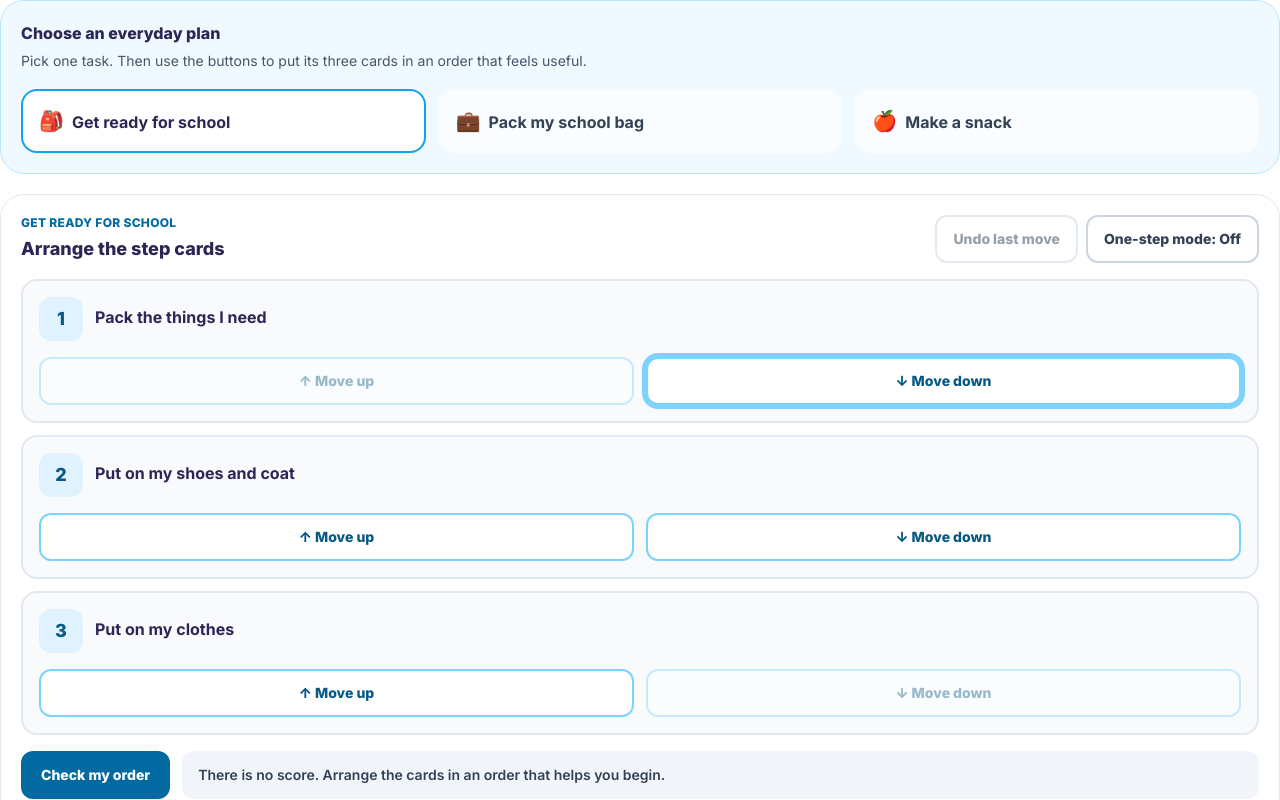
Test: DyspraxiaStepPlannerActivity › moves cards by keyboard with large labelled buttons and can undo the last move
Press Enter
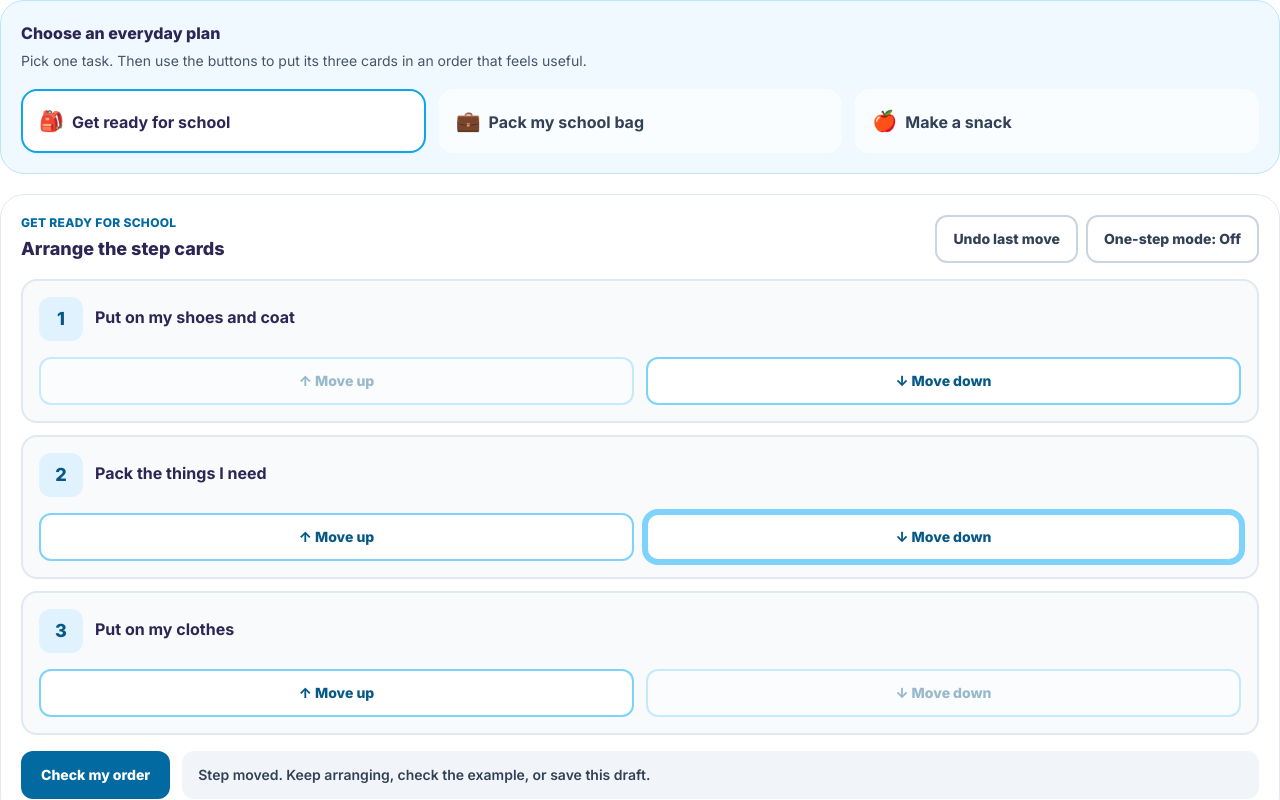
Click the button "Undo last move" at coordinates (1007, 239), box [935,215,1078,263]
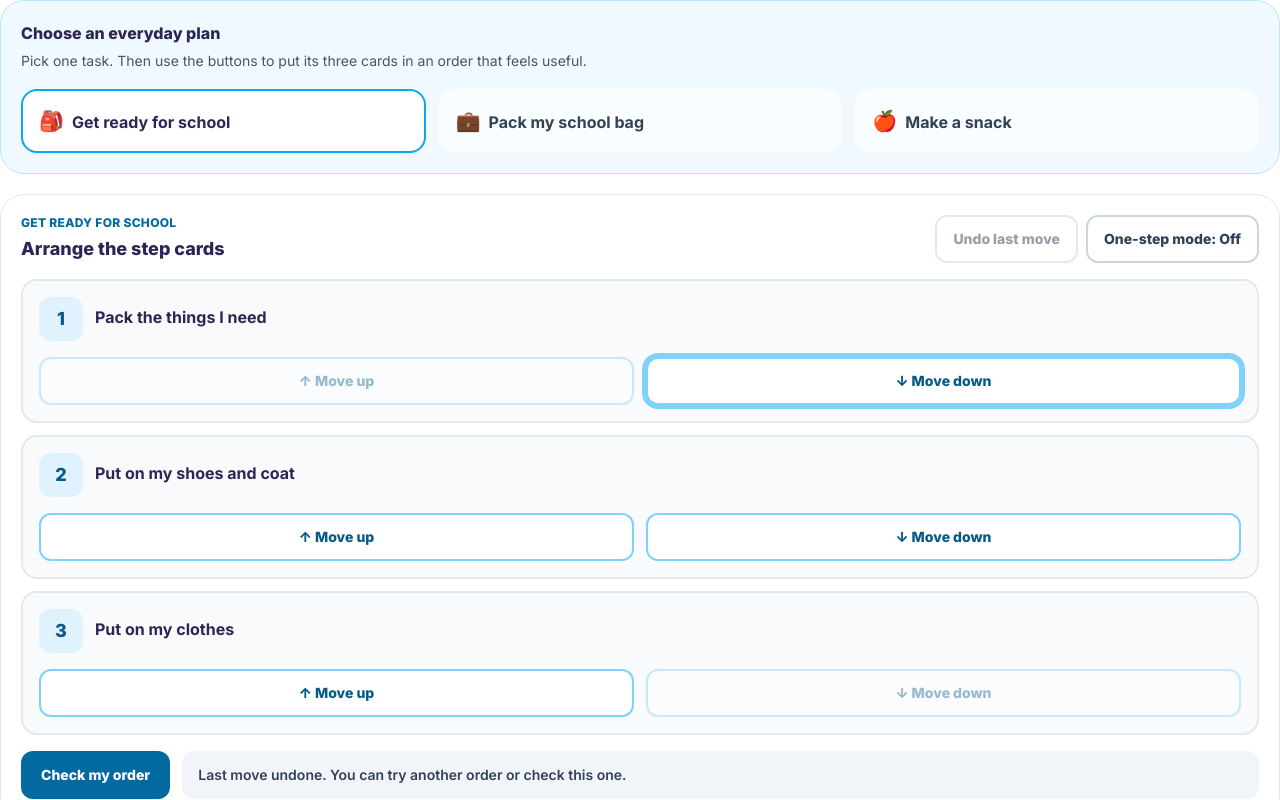
Expected: the text "Last move undone. You can try another order or check this one." is shown, [182,751,1259,799]
